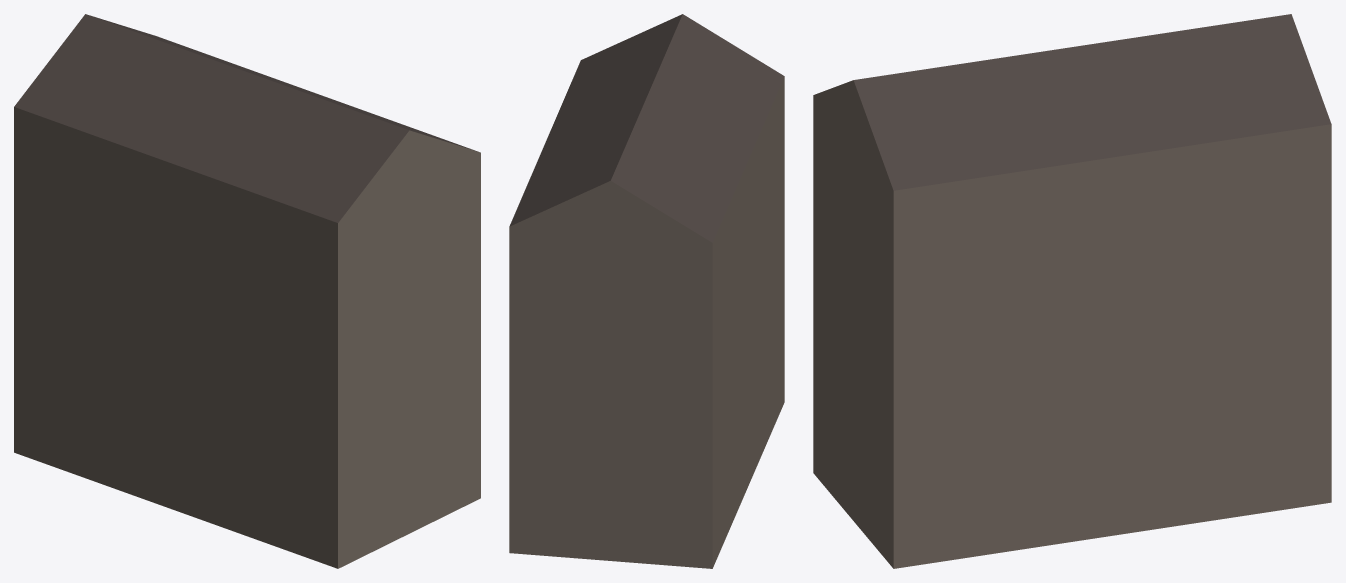
3 renders of one model, left to right at view 1: azimuth 30°, elevation 25°; view 2: azimuth 150°, elevation 25°; view 3: azimuth 270°, elevation 25°, orthographic. The views are drawn at different scales.
Parts seen in each view (by area): view 1: HP-w408450760; view 2: HP-w408450760; view 3: HP-w408450760.
Part boxes in pixels (x1,y1,x2,y2): HP-w408450760: (14,14,480,568); HP-w408450760: (509,14,784,568); HP-w408450760: (813,14,1331,568).
Size of the model in its own units: 5.51 by 7 by 7.45.
